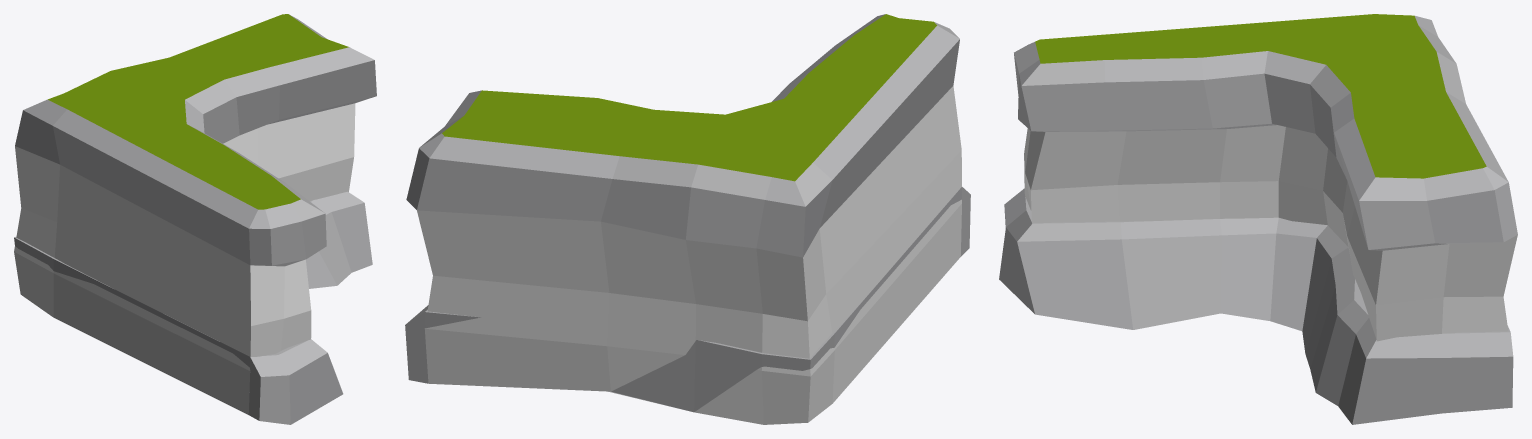
Rendered from CliffCorner2FlatShaded.fbx.
3 renders of one model, left to right at view 1: azimuth 30°, elevation 25°; view 2: azimuth 150°, elevation 25°; view 3: azimuth 270°, elevation 25°, orthographic. The views are drawn at different scales.
Parts seen in each view (by area): view 1: Plane.016, Plane.017, Plane.015, Plane.018; view 2: Plane.016, Plane.017, Plane.015, Plane.018; view 3: Plane.018, Plane.016, Plane.017, Plane.015.
Boxes of the visible parts, bbox=[...] form: Plane.016: bbox=[14, 103, 355, 414]; Plane.017: bbox=[15, 14, 376, 266]; Plane.015: bbox=[48, 14, 348, 209]; Plane.018: bbox=[14, 191, 372, 424]; Plane.016: bbox=[417, 86, 961, 424]; Plane.017: bbox=[406, 14, 959, 257]; Plane.015: bbox=[442, 14, 936, 181]; Plane.018: bbox=[405, 187, 970, 412]; Plane.018: bbox=[999, 188, 1513, 424]; Plane.016: bbox=[1024, 125, 1517, 341]; Plane.017: bbox=[1014, 16, 1517, 250]; Plane.015: bbox=[1035, 14, 1486, 178].
Bounding box in the file's own units: 3617 × 2378 × 4335.
